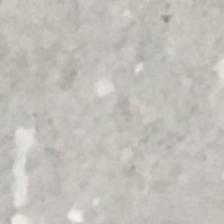Non_Crack: (20, 4, 224, 224)
